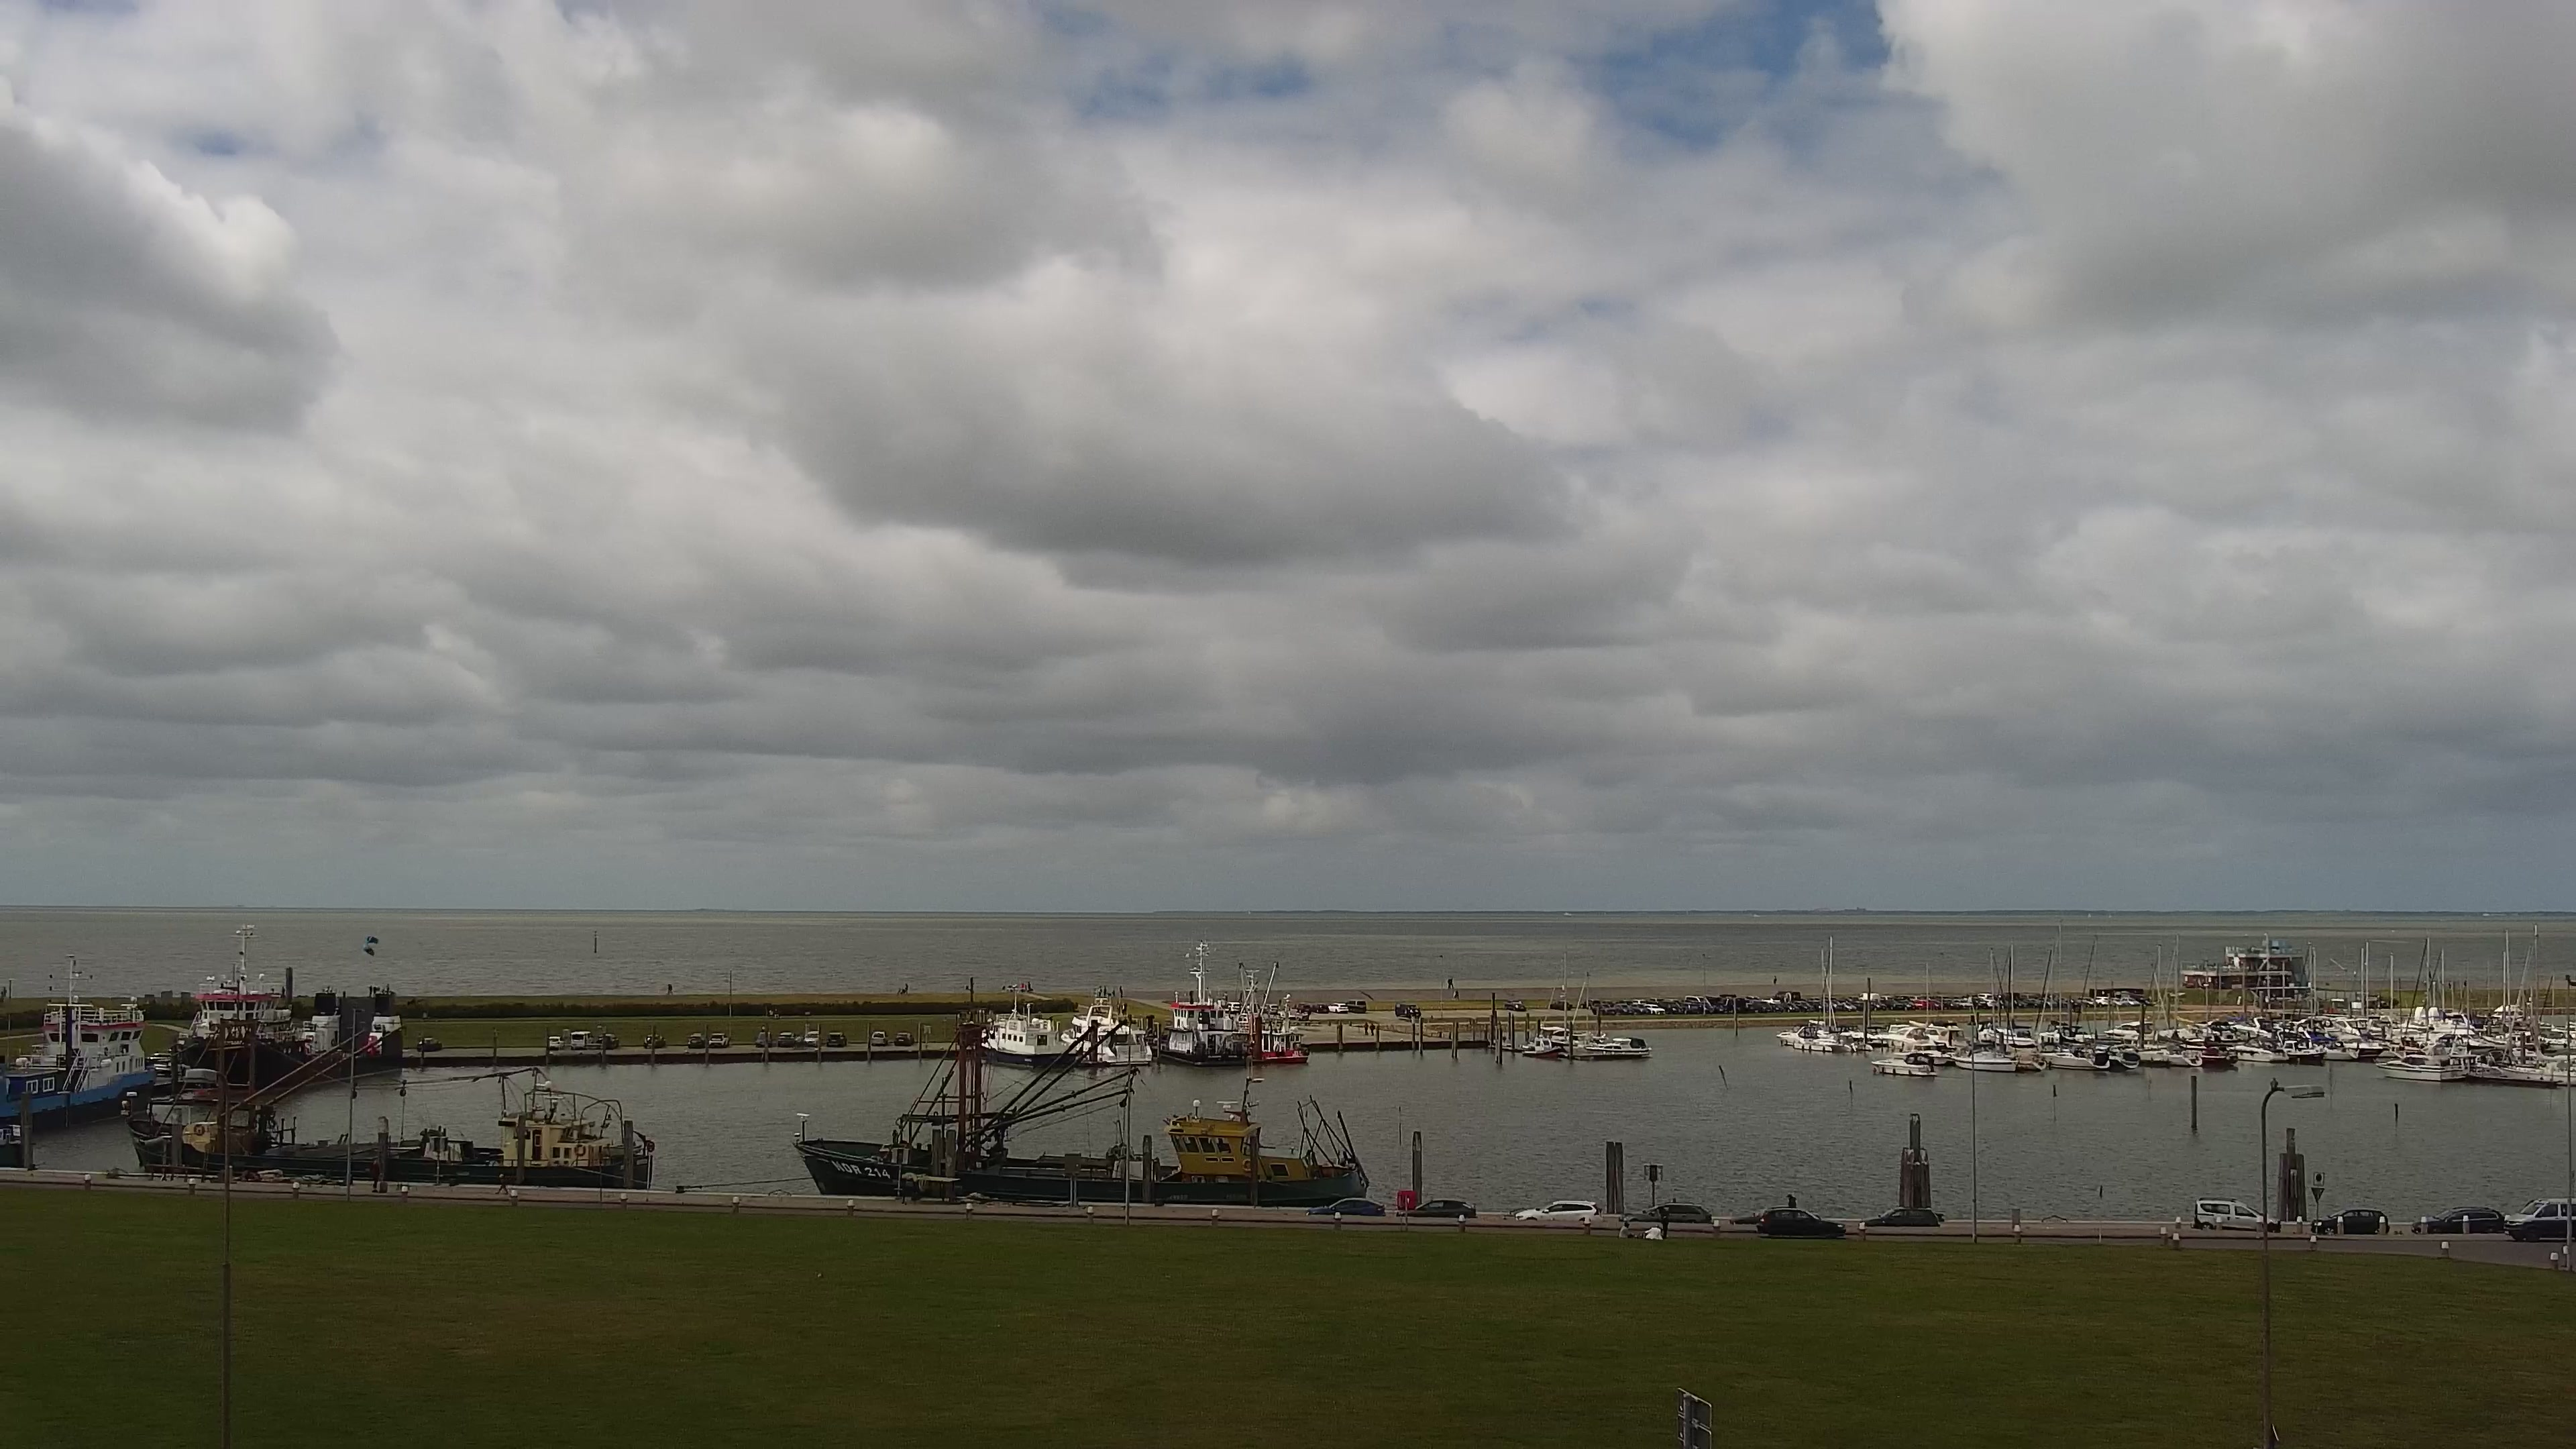human: (370, 1157, 381, 1193), (1616, 1221, 1635, 1238), (494, 1173, 508, 1195), (1642, 1224, 1662, 1239), (1660, 1205, 1669, 1239), (1786, 1193, 1796, 1210), (1362, 1020, 1369, 1036), (1452, 989, 1460, 1002), (1447, 978, 1454, 990), (1369, 1022, 1375, 1036), (368, 983, 373, 998), (667, 983, 673, 997), (773, 1008, 780, 1020), (1119, 984, 1124, 998), (1117, 1002, 1122, 1016), (372, 984, 377, 996), (904, 981, 909, 994), (1103, 986, 1108, 998), (1097, 985, 1102, 998), (767, 1008, 775, 1018), (1772, 974, 1778, 986), (385, 983, 390, 994), (1123, 1002, 1128, 1014), (1027, 981, 1031, 991), (1024, 983, 1028, 992), (1021, 981, 1024, 991)
land: (2504, 1198, 2576, 1242), (2193, 1195, 2282, 1232), (1755, 1206, 1847, 1240), (2409, 1205, 2506, 1234), (2311, 1207, 2390, 1236), (1513, 1199, 1604, 1222), (1620, 1201, 1713, 1224), (1857, 1205, 1938, 1227), (1305, 1197, 1386, 1216), (1395, 1199, 1476, 1218), (569, 1030, 594, 1050), (1690, 1002, 1729, 1014), (1394, 1002, 1421, 1019), (417, 1034, 444, 1051), (643, 1030, 666, 1049), (777, 1030, 802, 1048), (596, 1032, 621, 1049), (686, 1030, 705, 1049), (545, 1034, 566, 1051), (707, 1031, 730, 1048), (1684, 995, 1712, 1007), (1772, 991, 1801, 1004), (753, 1030, 773, 1048), (826, 1031, 847, 1047), (893, 1031, 915, 1047), (803, 1030, 822, 1048), (1591, 1003, 1615, 1015), (1611, 1003, 1635, 1015), (1660, 1003, 1684, 1015), (1346, 999, 1367, 1013), (1328, 1001, 1349, 1013), (1504, 999, 1527, 1012), (1624, 1002, 1648, 1014), (1642, 1004, 1665, 1015), (871, 1031, 889, 1047), (1730, 998, 1746, 1014), (1548, 999, 1572, 1010), (1311, 1002, 1330, 1014), (2037, 997, 2057, 1008), (1674, 1002, 1689, 1015), (1744, 996, 1760, 1010), (2076, 996, 2096, 1006), (2120, 997, 2140, 1006), (1616, 997, 1632, 1008), (1797, 1002, 1815, 1013), (2057, 997, 2075, 1008), (1754, 1001, 1773, 1012), (1868, 1001, 1887, 1012), (1884, 999, 1904, 1010), (1953, 998, 1973, 1009), (1858, 992, 1880, 1001), (1295, 1002, 1311, 1014), (1768, 1003, 1784, 1013), (1896, 1000, 1915, 1011), (2136, 996, 2154, 1006), (1584, 998, 1600, 1008), (1598, 998, 1614, 1009), (1784, 1003, 1800, 1013), (1841, 1002, 1856, 1012), (1913, 1000, 1928, 1010), (1973, 998, 1988, 1009), (2093, 996, 2109, 1007), (1928, 999, 1943, 1010), (1942, 1000, 1957, 1010), (2108, 998, 2123, 1008), (1760, 997, 1780, 1004), (1633, 998, 1647, 1007), (1892, 995, 1910, 1001), (1977, 993, 1994, 1000), (2014, 1000, 2027, 1009), (2026, 999, 2040, 1008), (1648, 997, 1664, 1003), (1664, 997, 1680, 1003), (2019, 993, 2034, 999), (1984, 999, 1997, 1008), (1807, 996, 1821, 1003), (1879, 995, 1892, 1001), (1844, 996, 1860, 1002), (1909, 995, 1919, 1001), (1713, 1002, 1717, 1013), (1823, 996, 1837, 1001), (1939, 996, 1951, 1001)
sea: (793, 1009, 1369, 1207), (116, 978, 653, 1188), (154, 922, 402, 1073), (1, 953, 158, 1130), (2032, 919, 2140, 1072), (1158, 938, 1253, 1068), (2502, 922, 2576, 1086), (1953, 947, 2047, 1071), (2102, 932, 2205, 1042), (2278, 938, 2360, 1061), (2388, 936, 2469, 1057), (978, 986, 1077, 1067), (1235, 960, 1307, 1063), (1792, 934, 1851, 1053), (1975, 939, 2037, 1048), (1536, 951, 1606, 1038), (1074, 996, 1152, 1066), (2459, 958, 2513, 1050), (1550, 973, 1606, 1047), (2471, 1049, 2563, 1089), (2178, 1035, 2288, 1063), (2094, 1042, 2204, 1067), (2375, 1053, 2467, 1081), (1885, 1021, 1971, 1049), (1583, 1036, 1652, 1059), (1870, 1051, 1937, 1075), (2158, 1046, 2238, 1063), (1776, 1025, 1837, 1045), (2191, 1020, 2249, 1042), (2276, 1040, 2327, 1065), (2229, 1016, 2278, 1035), (1521, 1036, 1561, 1059), (2489, 1003, 2526, 1022), (1829, 1024, 1873, 1040), (2141, 931, 2147, 1041), (2362, 1040, 2383, 1059), (1866, 1025, 1889, 1042), (1850, 1038, 1872, 1053), (1923, 1020, 1932, 1047), (1887, 1024, 1910, 1034), (2362, 1016, 2369, 1038), (1563, 911, 1571, 916), (1752, 914, 1760, 918), (2086, 913, 2092, 918), (2108, 913, 2112, 918), (1247, 909, 1251, 915)
